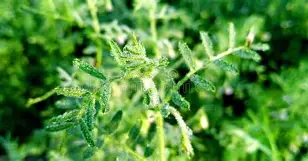crops: (0, 1, 302, 161), (256, 62, 308, 154), (0, 129, 44, 160)
